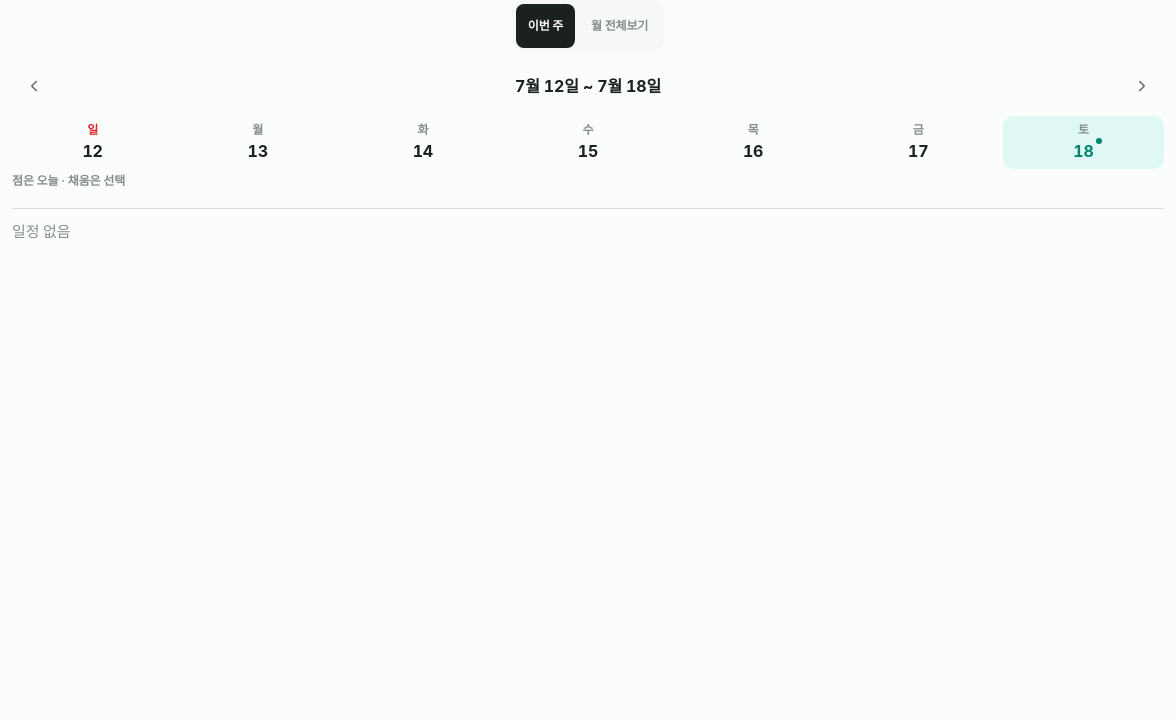
Test case: AcademicCalendarGrid — 주/월 탭 › 주 탭에서 이동한 뒤 월 탭으로 돌아가면 그 주가 속한 달을 보여준다
The image size is (1176, 720).
Click the button named "다음 주": click(1142, 86) [1120,64,1164,108]
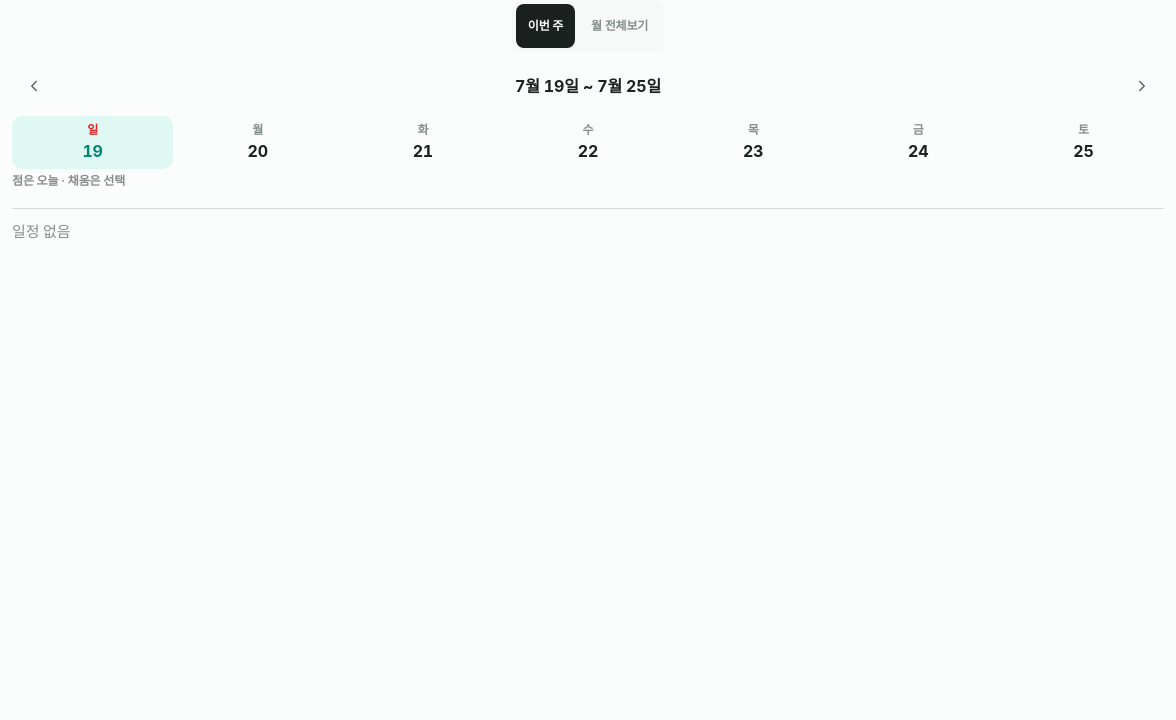
Click the button named "다음 주": click(1142, 86) [1120,64,1164,108]
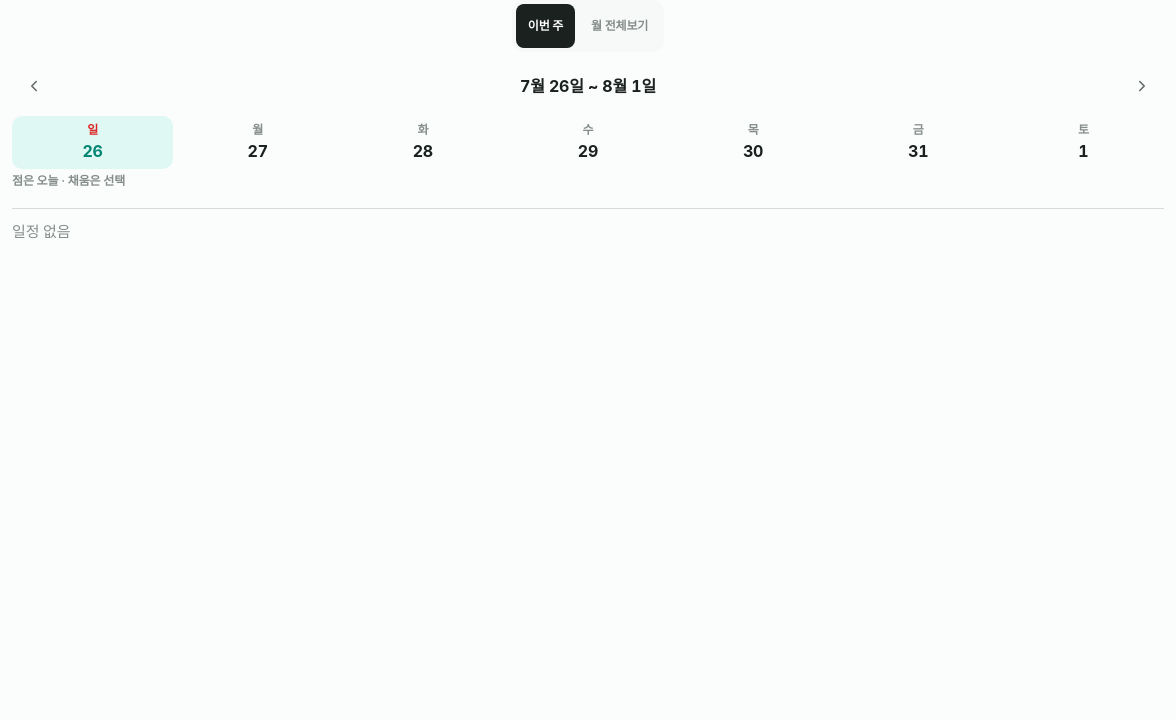
Click the button named "다음 주": click(1142, 86) [1120,64,1164,108]
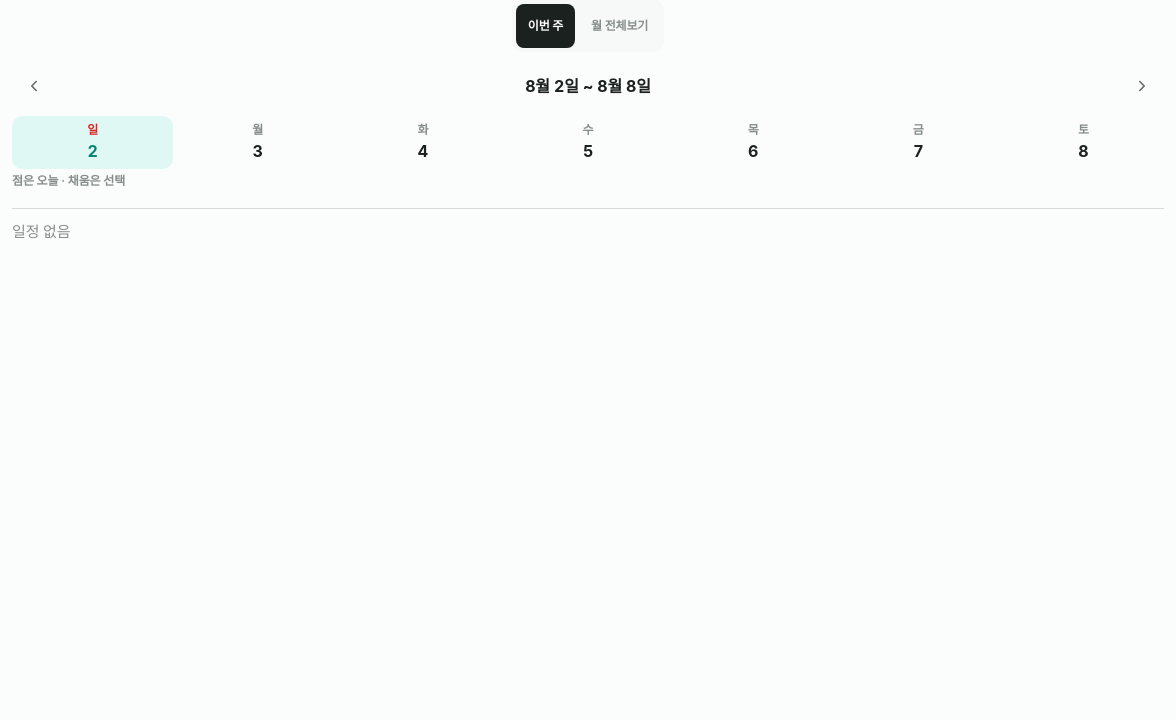
Click the tab "월 전체보기": click(620, 26) [579,4,660,48]
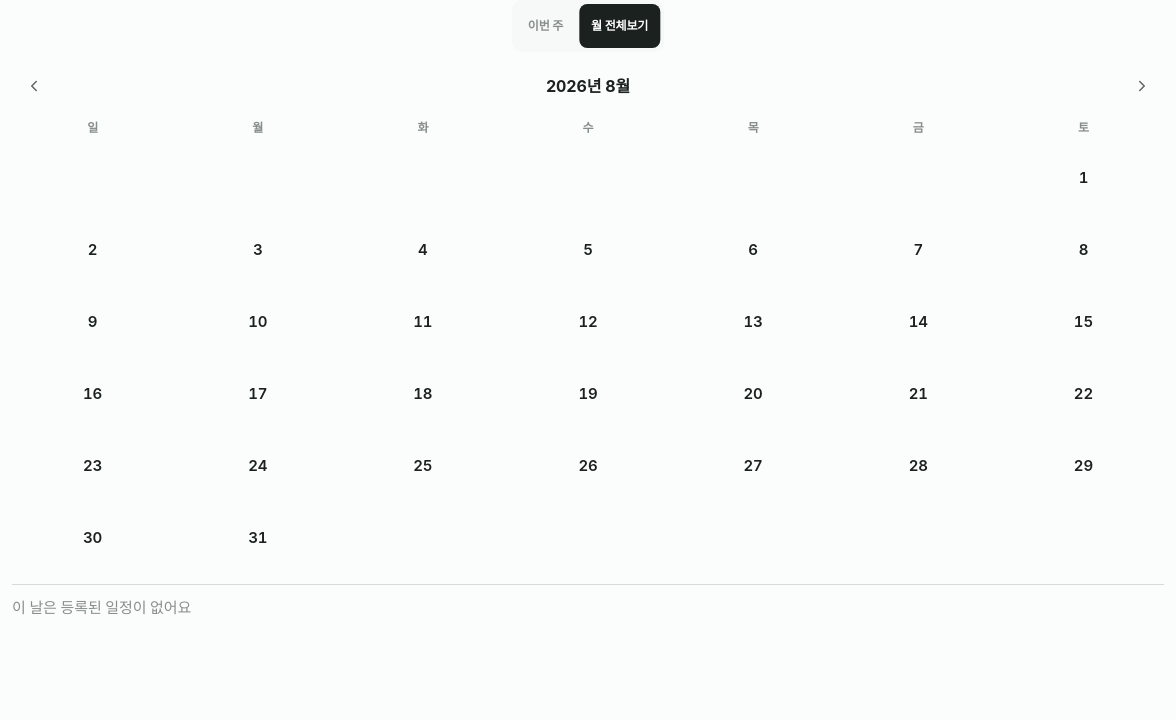
Check: the text "2026년 8월" is shown, box [546,74,630,98]
